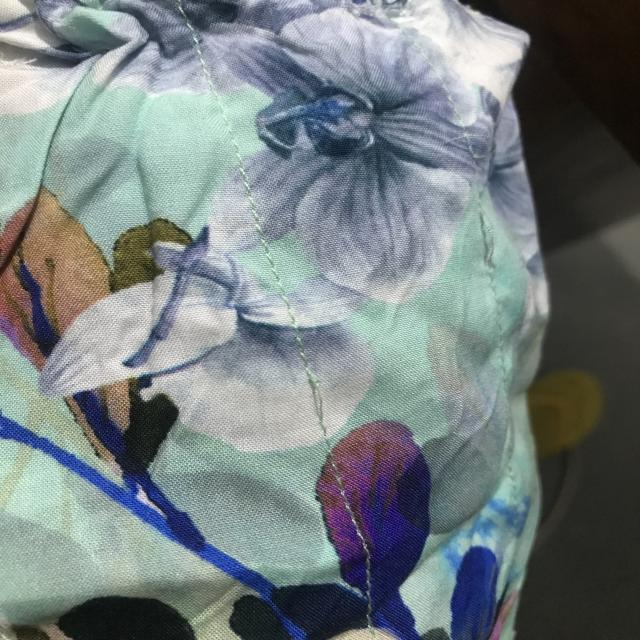good: (253, 242, 310, 328)
skip: (292, 366, 348, 434)
